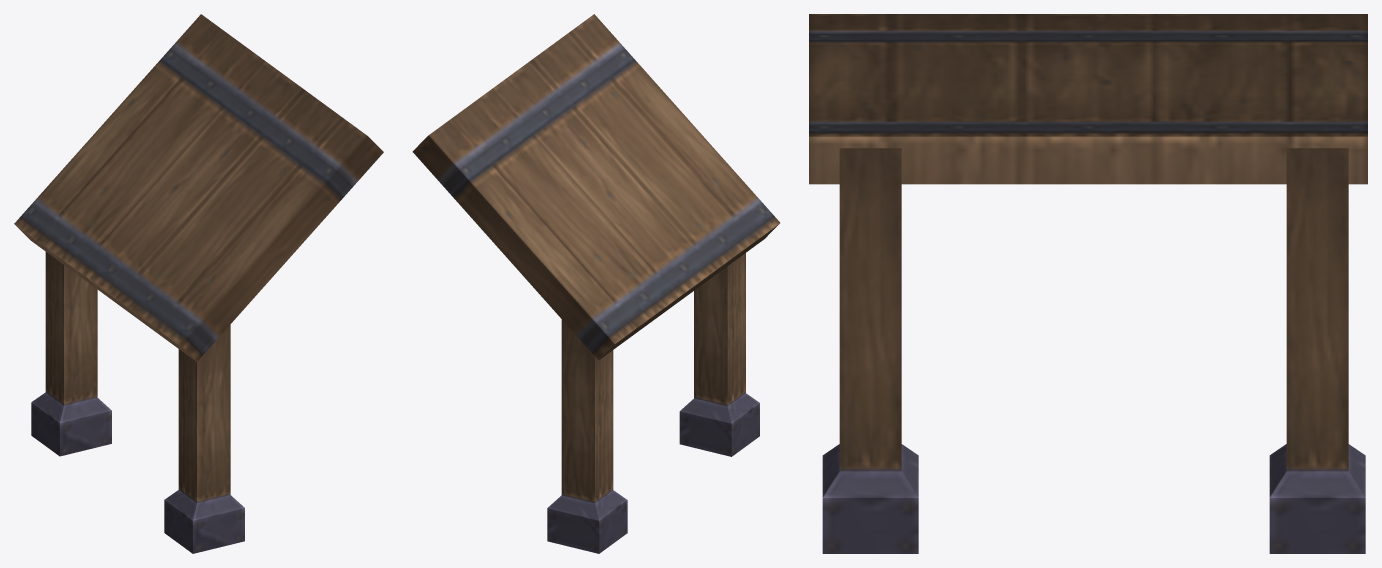
File: halberd_house_prop_2.FBX
The picture shows the model from 3 angles, left to right: view 1: azimuth 30°, elevation 25°; view 2: azimuth 150°, elevation 25°; view 3: azimuth 270°, elevation 25°; orthographic projection. The views are drawn at different scales.
Parts seen in each view (by area): view 1: halberd_house_prop_2; view 2: halberd_house_prop_2; view 3: halberd_house_prop_2.
Part boxes in pixels (x1=…): halberd_house_prop_2: x1=14, y1=14, x2=383, y2=553; halberd_house_prop_2: x1=412, y1=14, x2=780, y2=553; halberd_house_prop_2: x1=809, y1=14, x2=1367, y2=553.
Bounding box in the file's own units: 43.98 × 78.39 × 62.33.
